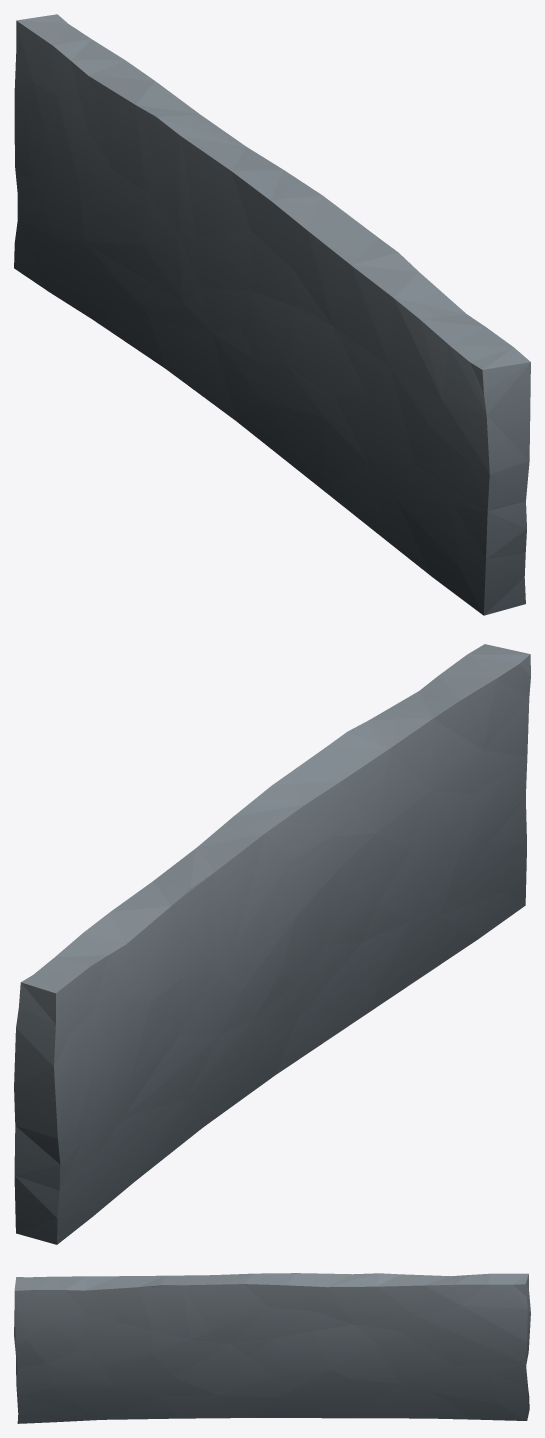
Rendered from wall_clean.fbx.
The picture shows the model from 3 angles, top to bottom: view 1: azimuth 30°, elevation 25°; view 2: azimuth 150°, elevation 25°; view 3: azimuth 270°, elevation 25°; orthographic projection. The views are drawn at different scales.
Parts seen in each view (by area): view 1: wall_clean; view 2: wall_clean; view 3: wall_clean.
Part boxes in pixels (bbox=[...]): wall_clean: bbox=[14, 14, 530, 615]; wall_clean: bbox=[14, 644, 530, 1244]; wall_clean: bbox=[14, 1273, 530, 1423].
Bounding box in the file's own units: 300 × 1500 × 4958.
